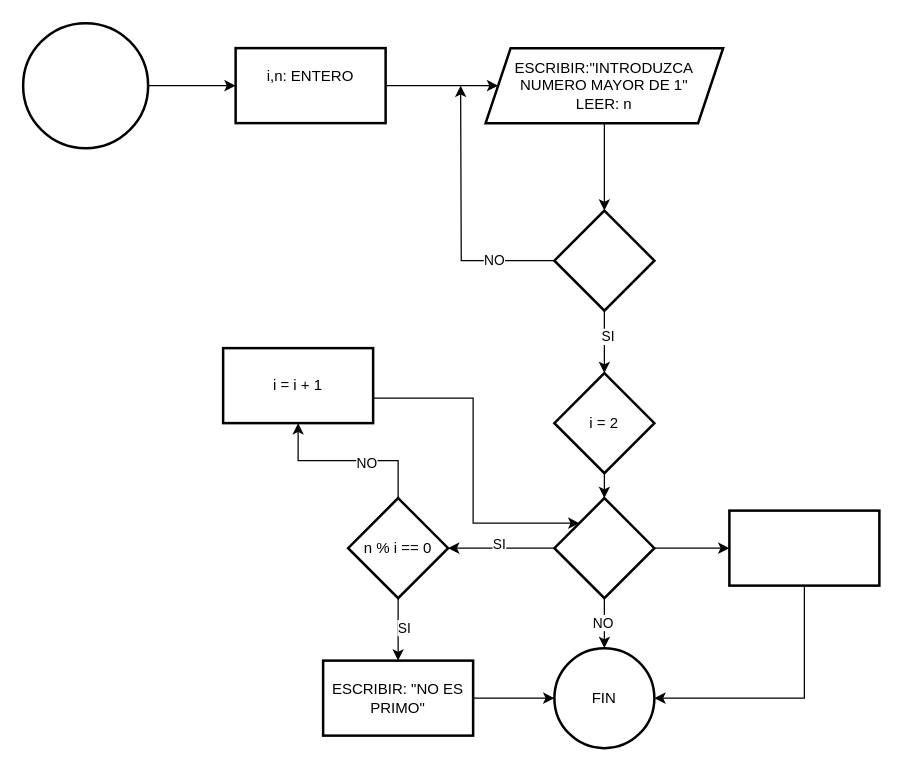
Some shapes in this 901 by 770 pixel diagram are drawn without their labels. Each missing label, with the box of its shape:
ESCRIBIR:"ES PRIMO": (728, 509, 880, 586)
i < n: (552, 496, 655, 599)
INICIO: (21, 21, 149, 149)
n > 1: (552, 209, 655, 311)
